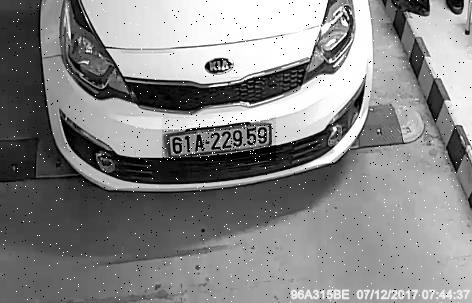License-plate: (164, 118, 279, 162)
